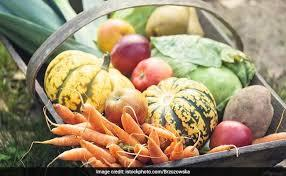Organic: (2, 0, 286, 176)
